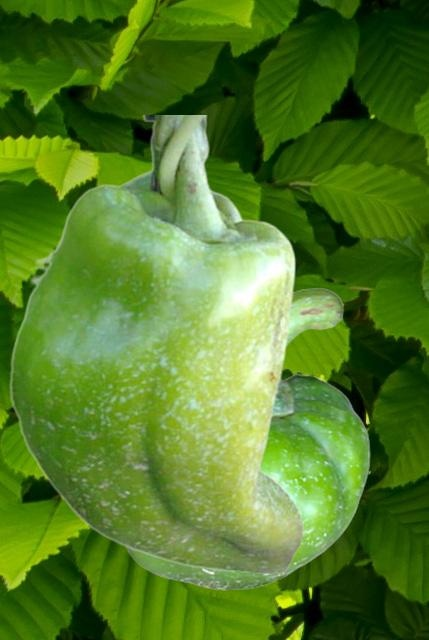bell_pepper: (8, 115, 303, 573), (123, 287, 369, 589)
